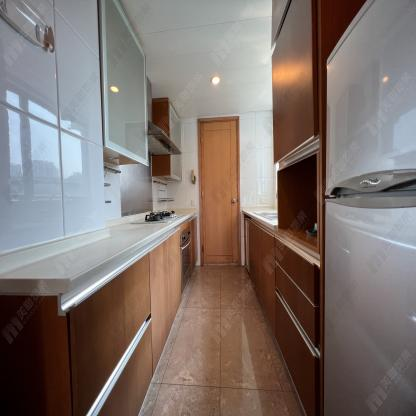Cupboard: (64, 221, 184, 416), (245, 214, 321, 413)
Exhaust Hood: (146, 77, 181, 154)
Fridge: (321, 1, 414, 416)
Stove: (130, 206, 183, 225)
